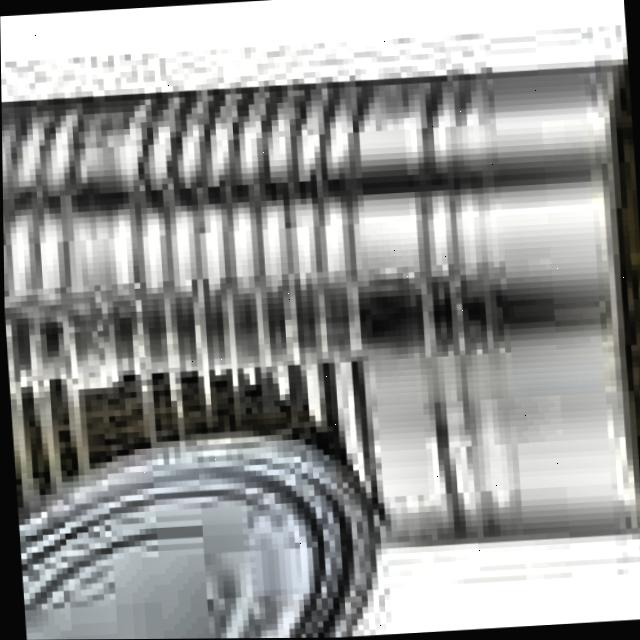metal: (1, 42, 640, 599), (11, 423, 401, 640)
